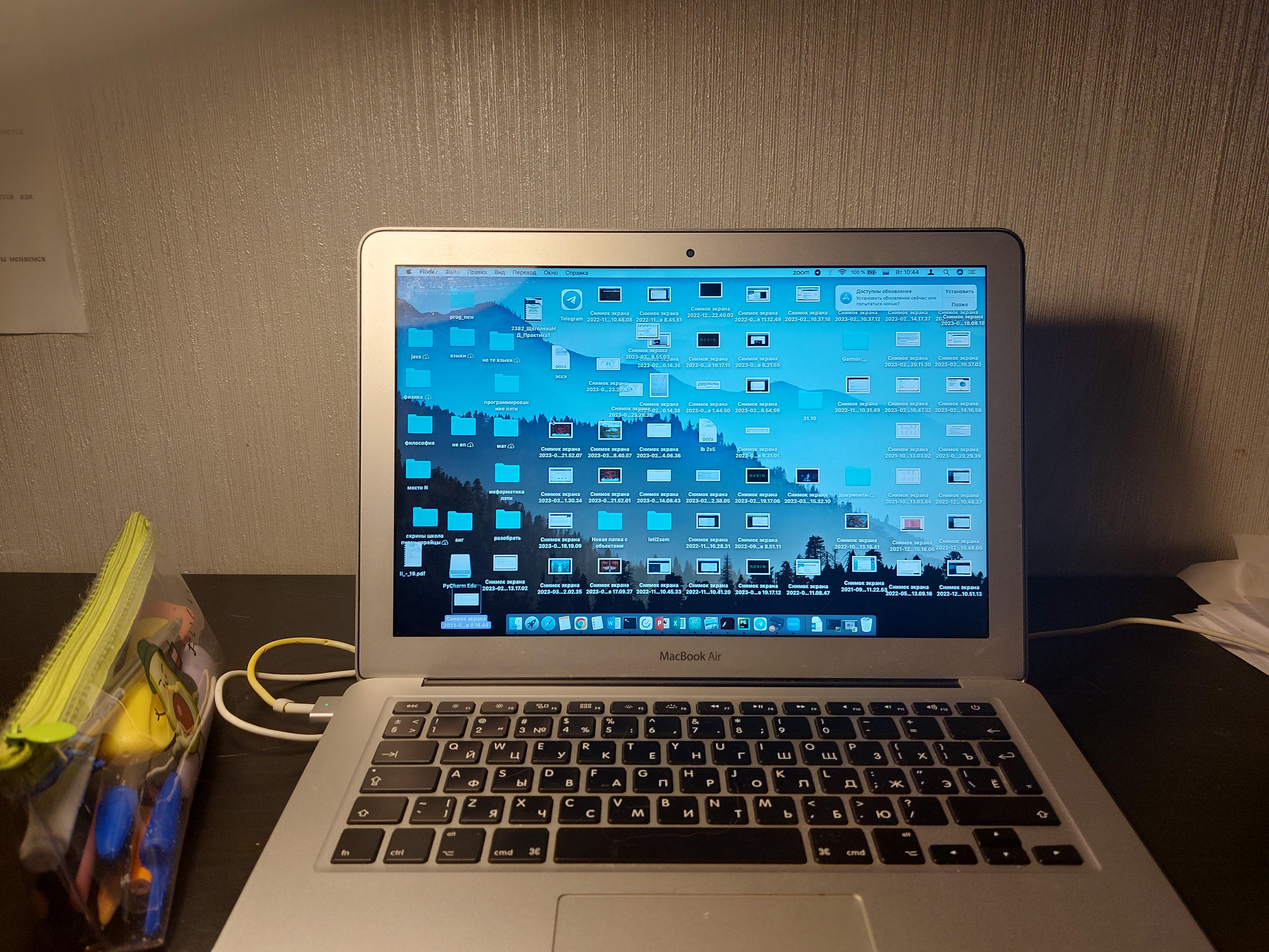monitor: (354, 217, 1033, 684)
